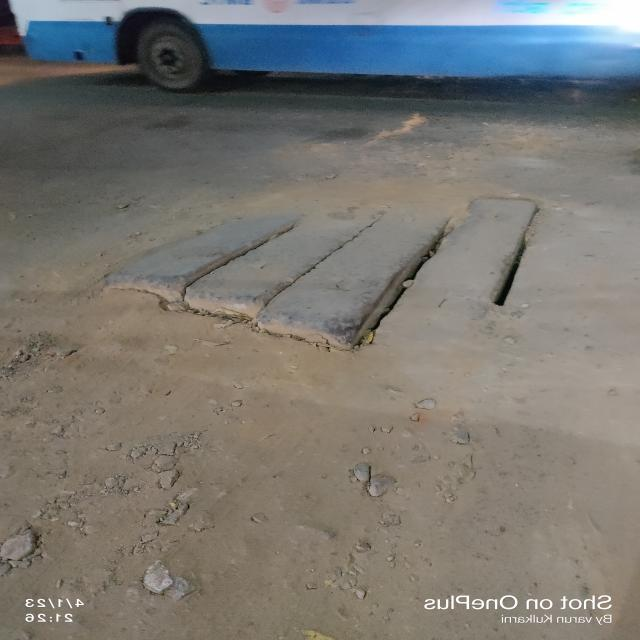manhole: (92, 192, 567, 354)
